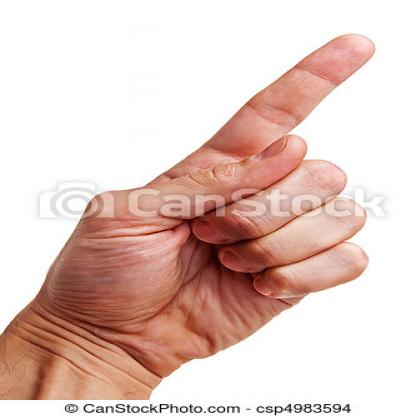Up: (38, 24, 389, 349)
